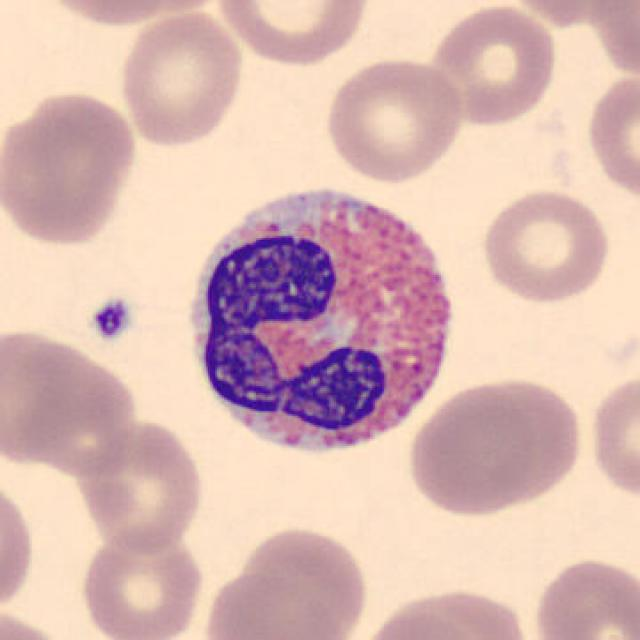Eosinophil: (174, 166, 468, 474)
Platelets: (87, 292, 135, 346)
RBC: (0, 87, 142, 250), (202, 523, 373, 640), (320, 53, 466, 185), (406, 378, 540, 518), (116, 7, 247, 150), (75, 414, 206, 556), (457, 372, 587, 513), (423, 2, 562, 128), (477, 185, 615, 305), (0, 322, 105, 470), (76, 523, 207, 640), (215, 0, 373, 69), (529, 553, 638, 640), (373, 583, 538, 640), (583, 69, 638, 206), (587, 365, 638, 508), (30, 0, 226, 30), (350, 597, 481, 640), (0, 470, 37, 617), (500, 0, 630, 28), (0, 604, 73, 640)
